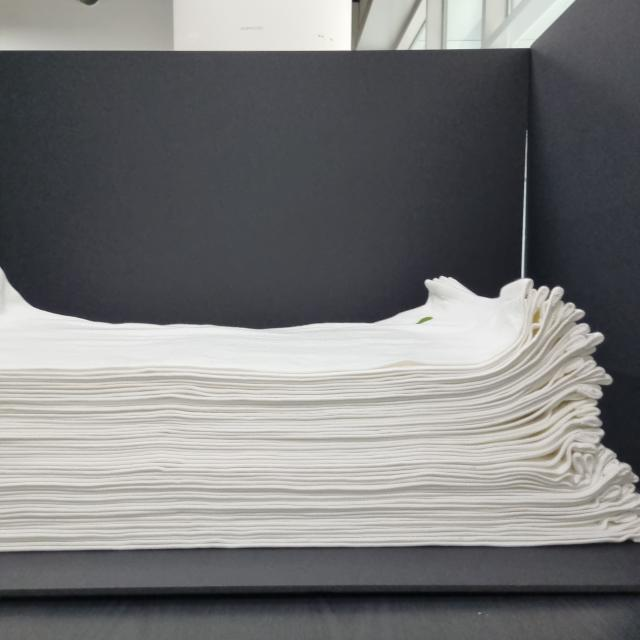50_towel_counts: (0, 245, 640, 580)
